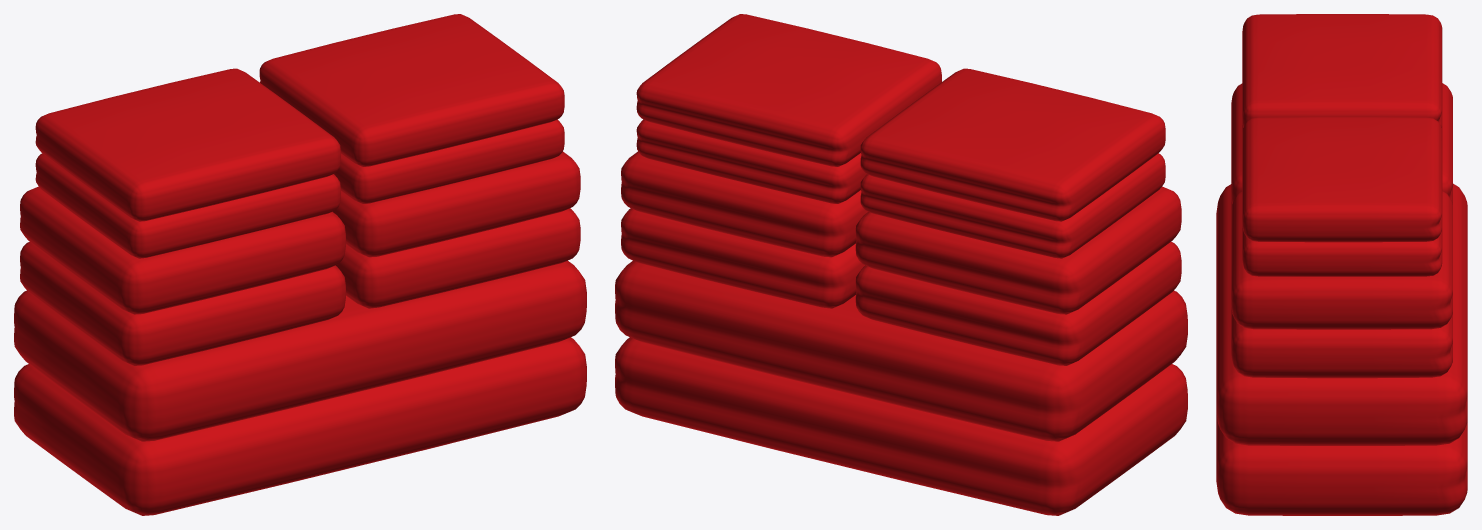
The model's file is TowelSetRed.glb.
The picture shows the model from 3 angles, left to right: view 1: azimuth 30°, elevation 25°; view 2: azimuth 150°, elevation 25°; view 3: azimuth 270°, elevation 25°; orthographic projection. The views are drawn at different scales.
Visible parts, largest first — view 1: BathTowel_2, BathTowel_1, Washcloth_L2, Washcloth_R2, HandTowel_L2, HandTowel_L1, HandTowel_R2, HandTowel_R1, Washcloth_L1, Washcloth_R1; view 2: BathTowel_2, BathTowel_1, Washcloth_L2, Washcloth_R2, HandTowel_L2, HandTowel_L1, HandTowel_R2, HandTowel_R1, Washcloth_L1, Washcloth_R1; view 3: Washcloth_R2, BathTowel_2, Washcloth_L2, BathTowel_1, HandTowel_R2, HandTowel_R1, Washcloth_R1, HandTowel_L2.
Part boxes in pixels (box(x1,y1,x2,y2)): BathTowel_2: box(14, 260, 586, 441); BathTowel_1: box(14, 337, 586, 515); Washcloth_L2: box(35, 68, 340, 221); Washcloth_R2: box(259, 14, 564, 166); HandTowel_L2: box(20, 186, 345, 314); HandTowel_L1: box(20, 241, 345, 365); HandTowel_R2: box(333, 151, 580, 257); HandTowel_R1: box(336, 208, 580, 308); Washcloth_L1: box(35, 153, 340, 258); Washcloth_R1: box(334, 119, 564, 203); BathTowel_2: box(615, 260, 1187, 441); BathTowel_1: box(615, 337, 1187, 515); Washcloth_L2: box(860, 68, 1165, 221); Washcloth_R2: box(636, 14, 941, 166); HandTowel_L2: box(855, 186, 1181, 314); HandTowel_L1: box(855, 241, 1181, 365); HandTowel_R2: box(621, 151, 867, 257); HandTowel_R1: box(621, 208, 864, 308); Washcloth_L1: box(860, 153, 1165, 258); Washcloth_R1: box(636, 119, 866, 203); Washcloth_R2: box(1242, 117, 1442, 242); BathTowel_2: box(1216, 183, 1467, 445); Washcloth_L2: box(1242, 14, 1442, 127); BathTowel_1: box(1216, 412, 1467, 515); HandTowel_R2: box(1231, 191, 1452, 329); HandTowel_R1: box(1231, 307, 1452, 378); Washcloth_R1: box(1242, 226, 1442, 276); HandTowel_L2: box(1231, 83, 1452, 204).
Bounding box in the file's own units: 0.34 × 0.2326 × 0.1692.
